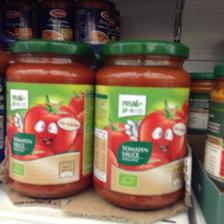Tomatensauce: (90, 39, 190, 210), (5, 38, 96, 198)
